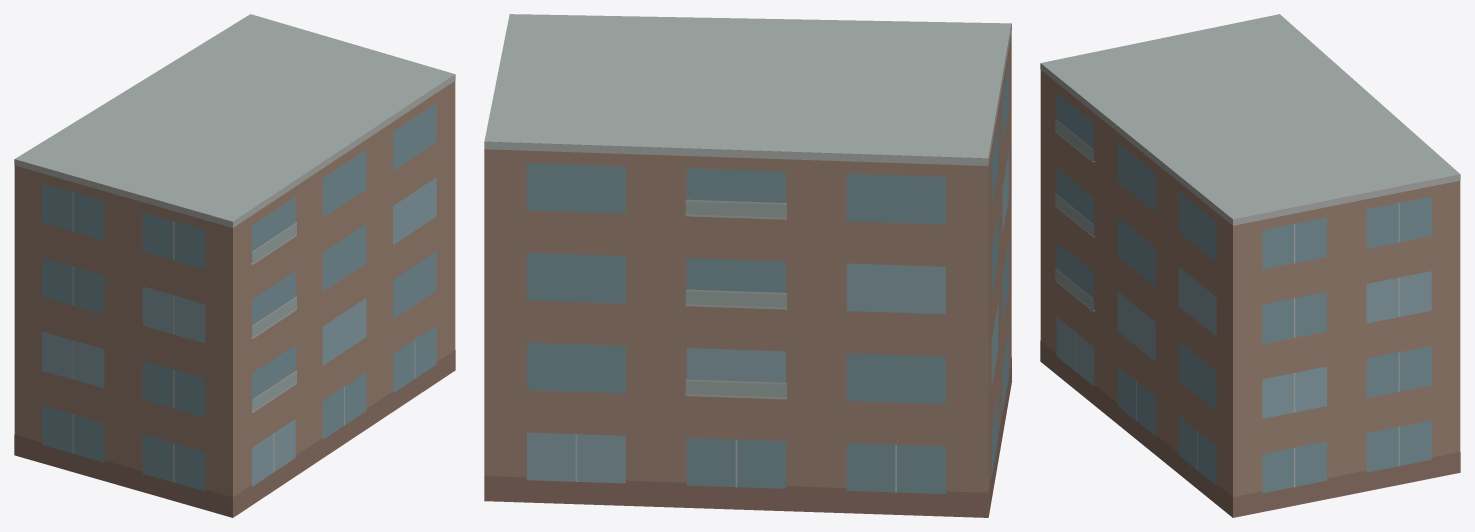
The model's file is survey-upis-32738311.glb.
The picture shows the model from 3 angles, left to right: view 1: azimuth 30°, elevation 25°; view 2: azimuth 150°, elevation 25°; view 3: azimuth 270°, elevation 25°; orthographic projection. The views are drawn at different scales.
Parts seen in each view (by area): view 1: survey-upis-32738311.tmp; view 2: survey-upis-32738311.tmp; view 3: survey-upis-32738311.tmp.
Part boxes in pixels (<box>): survey-upis-32738311.tmp: <box>14,14,455,517</box>; survey-upis-32738311.tmp: <box>484,14,1011,517</box>; survey-upis-32738311.tmp: <box>1040,14,1460,517</box>.
Size of the model in its own units: 16.79 by 11.37 by 14.51.
